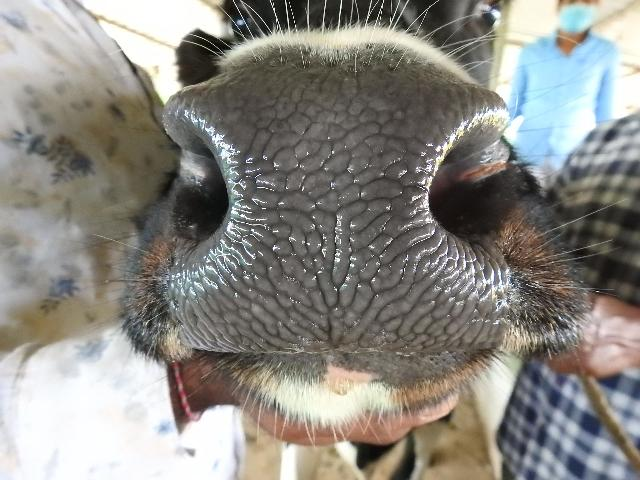Muzzle: (206, 74, 449, 346)
